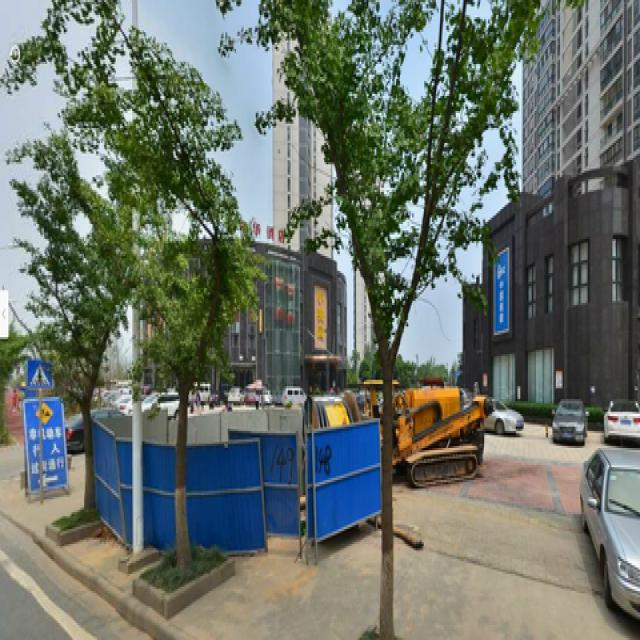gink: (97, 13, 245, 576)
